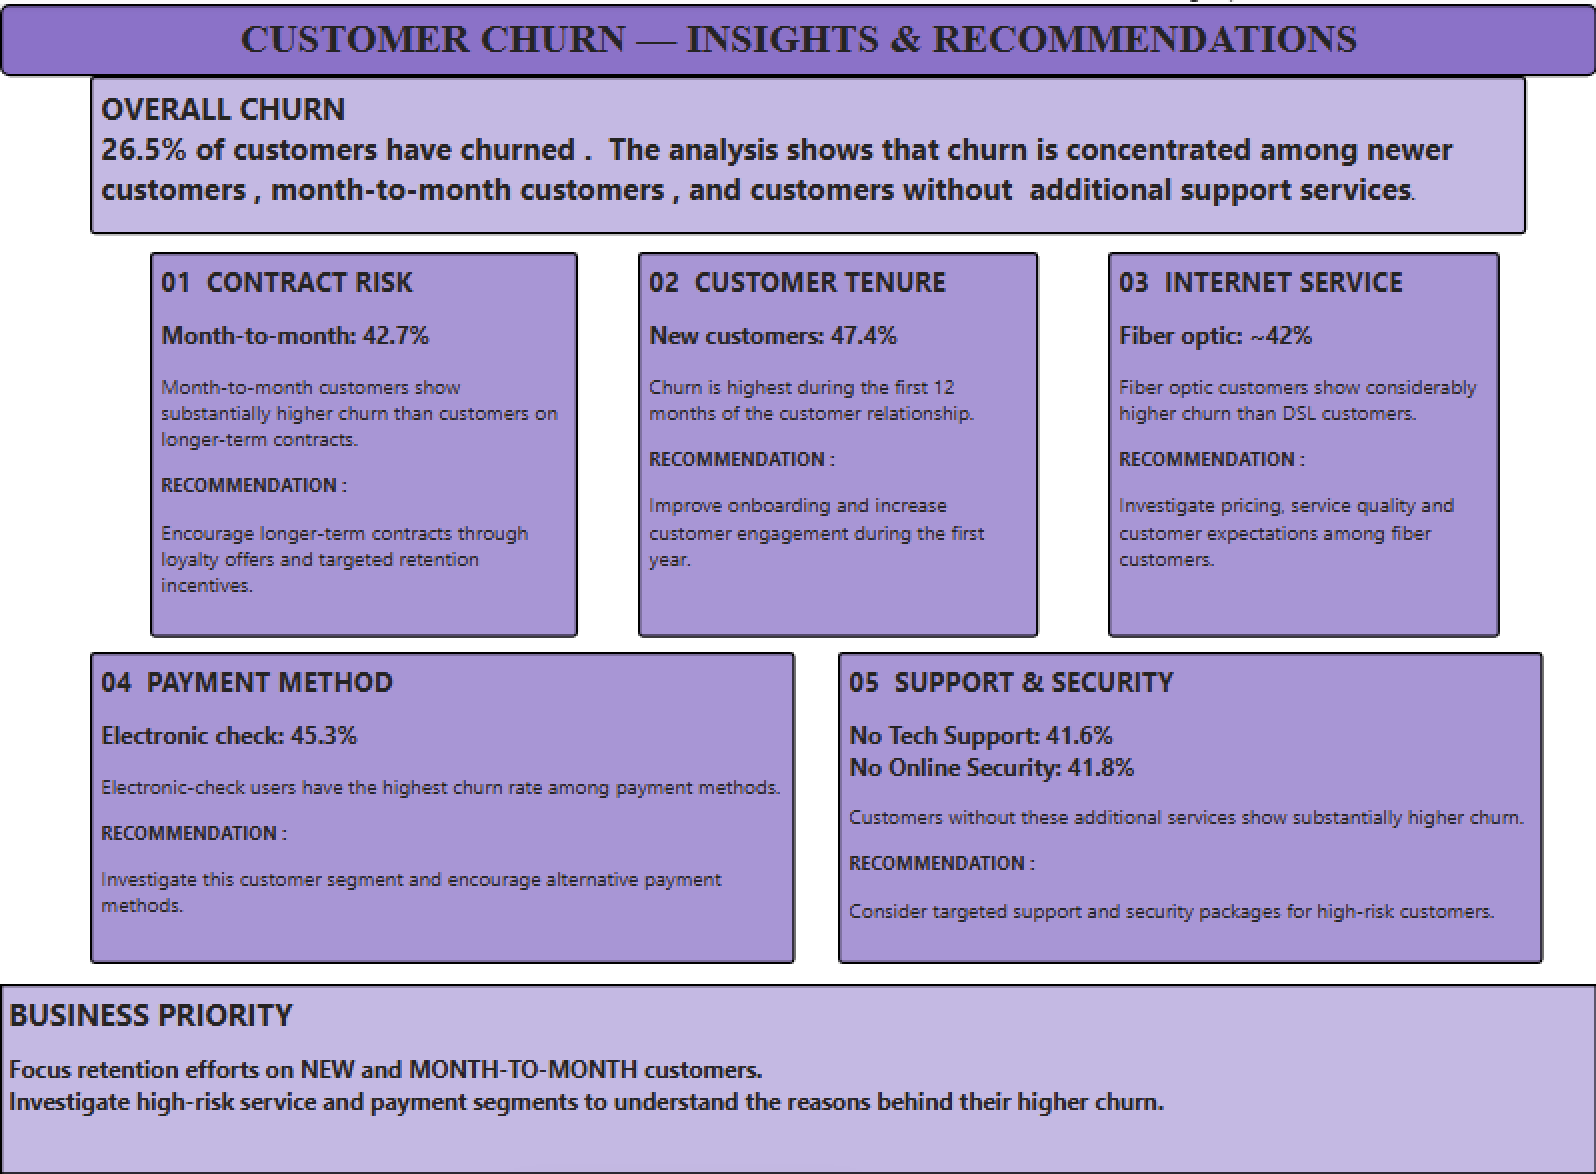

The dashboard page shown, as its layout file describes it:
{"tool":"powerbi","page":{"name":"Insights & Recommendations","canvas":[1280,1000],"ordinal":1},"visuals":[{"type":"textbox","box":[0,0,1280.4,57.7],"z":0},{"type":"textbox","box":[72.1,57.7,1150.6,126.6],"z":1000},{"type":"textbox","box":[120.3,199.4,342.9,309.3],"z":2000},{"type":"textbox","box":[511.1,199.4,320.5,309.3],"z":3000},{"type":"textbox","box":[887.8,198.7,314.1,309.3],"z":4000},{"type":"textbox","box":[72.8,519,564.9,250],"z":5000},{"type":"textbox","box":[670.9,519,564.9,250],"z":6000},{"type":"textbox","box":[0,784.8,1280.1,153.5],"z":7000}]}

Visuals, with their boxes in screenshot pixels (x1, y1, x2, y2):
textbox: BBox(0, 0, 1591, 1)
textbox: BBox(90, 1, 1519, 158)
textbox: BBox(149, 177, 575, 561)
textbox: BBox(635, 177, 1033, 561)
textbox: BBox(1103, 176, 1493, 560)
textbox: BBox(90, 574, 792, 885)
textbox: BBox(834, 574, 1535, 885)
textbox: BBox(0, 904, 1590, 1095)
